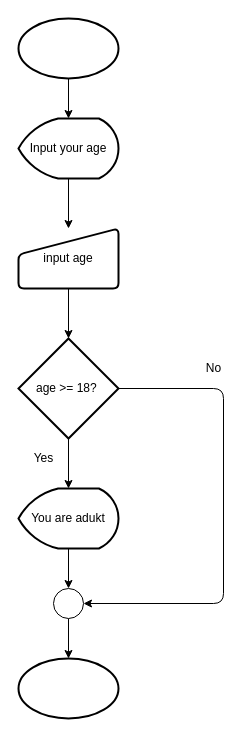
Some shapes in this 250 by 736 pixel diagram are drawn without their labels. The shapes that lost their labels are listed below. From the top down, each one's centre as x and y in pixels, then its label:
the point at 68,48: start
the point at 68,688: end
